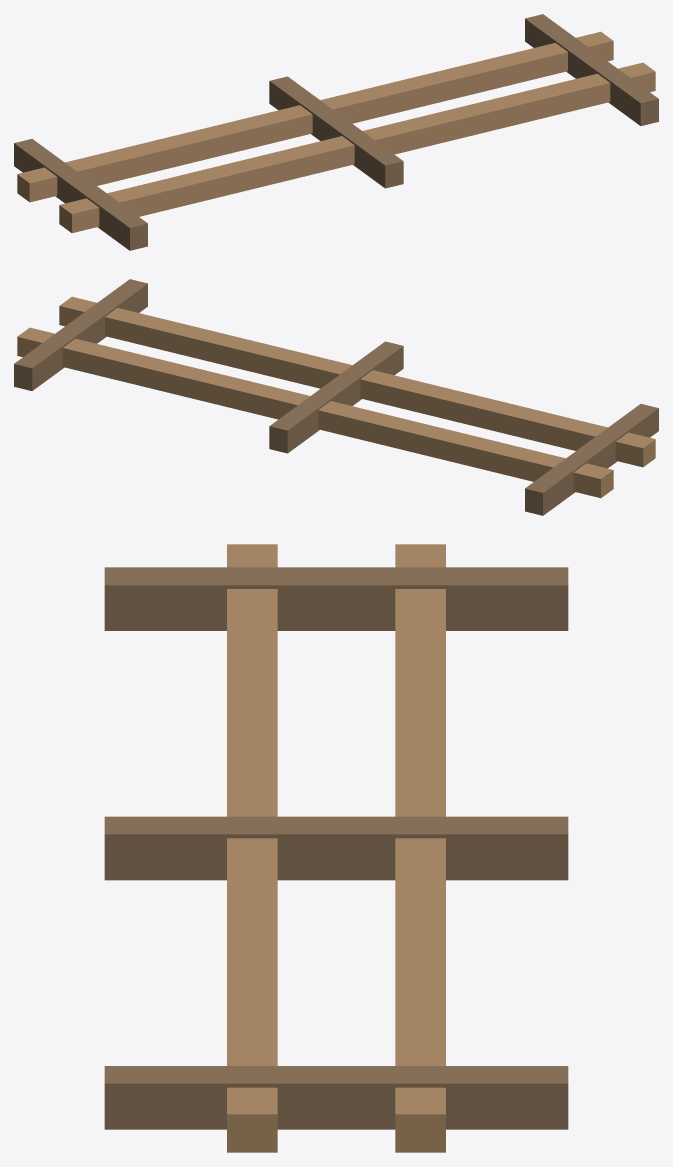
The model's file is mod_fence_wood.glb.
3 views of the same model, one above another, from view 1: azimuth 30°, elevation 25°; view 2: azimuth 150°, elevation 25°; view 3: azimuth 270°, elevation 25° (orthographic). The views are drawn at different scales.
Parts seen in each view (by area): view 1: rail_top, rail_bot, post_c, post_l, post_r; view 2: rail_bot, rail_top, post_c, post_l, post_r; view 3: rail_top, rail_bot, post_c, post_l, post_r.
Part boxes in pixels (x1,y1,x2,y2): rail_top: [59, 62, 655, 233]; rail_bot: [17, 31, 613, 202]; post_c: [269, 76, 403, 188]; post_l: [14, 139, 147, 250]; post_r: [525, 14, 658, 125]; rail_bot: [17, 327, 613, 498]; rail_top: [59, 296, 655, 467]; post_c: [269, 341, 403, 453]; post_l: [525, 404, 658, 515]; post_r: [14, 279, 147, 390]; rail_top: [227, 544, 277, 1152]; rail_bot: [395, 544, 445, 1152]; post_c: [104, 816, 568, 880]; post_l: [104, 567, 568, 630]; post_r: [104, 1066, 568, 1129].
Bounding box in the file's own units: 3.2 × 0.12 × 1.1.
